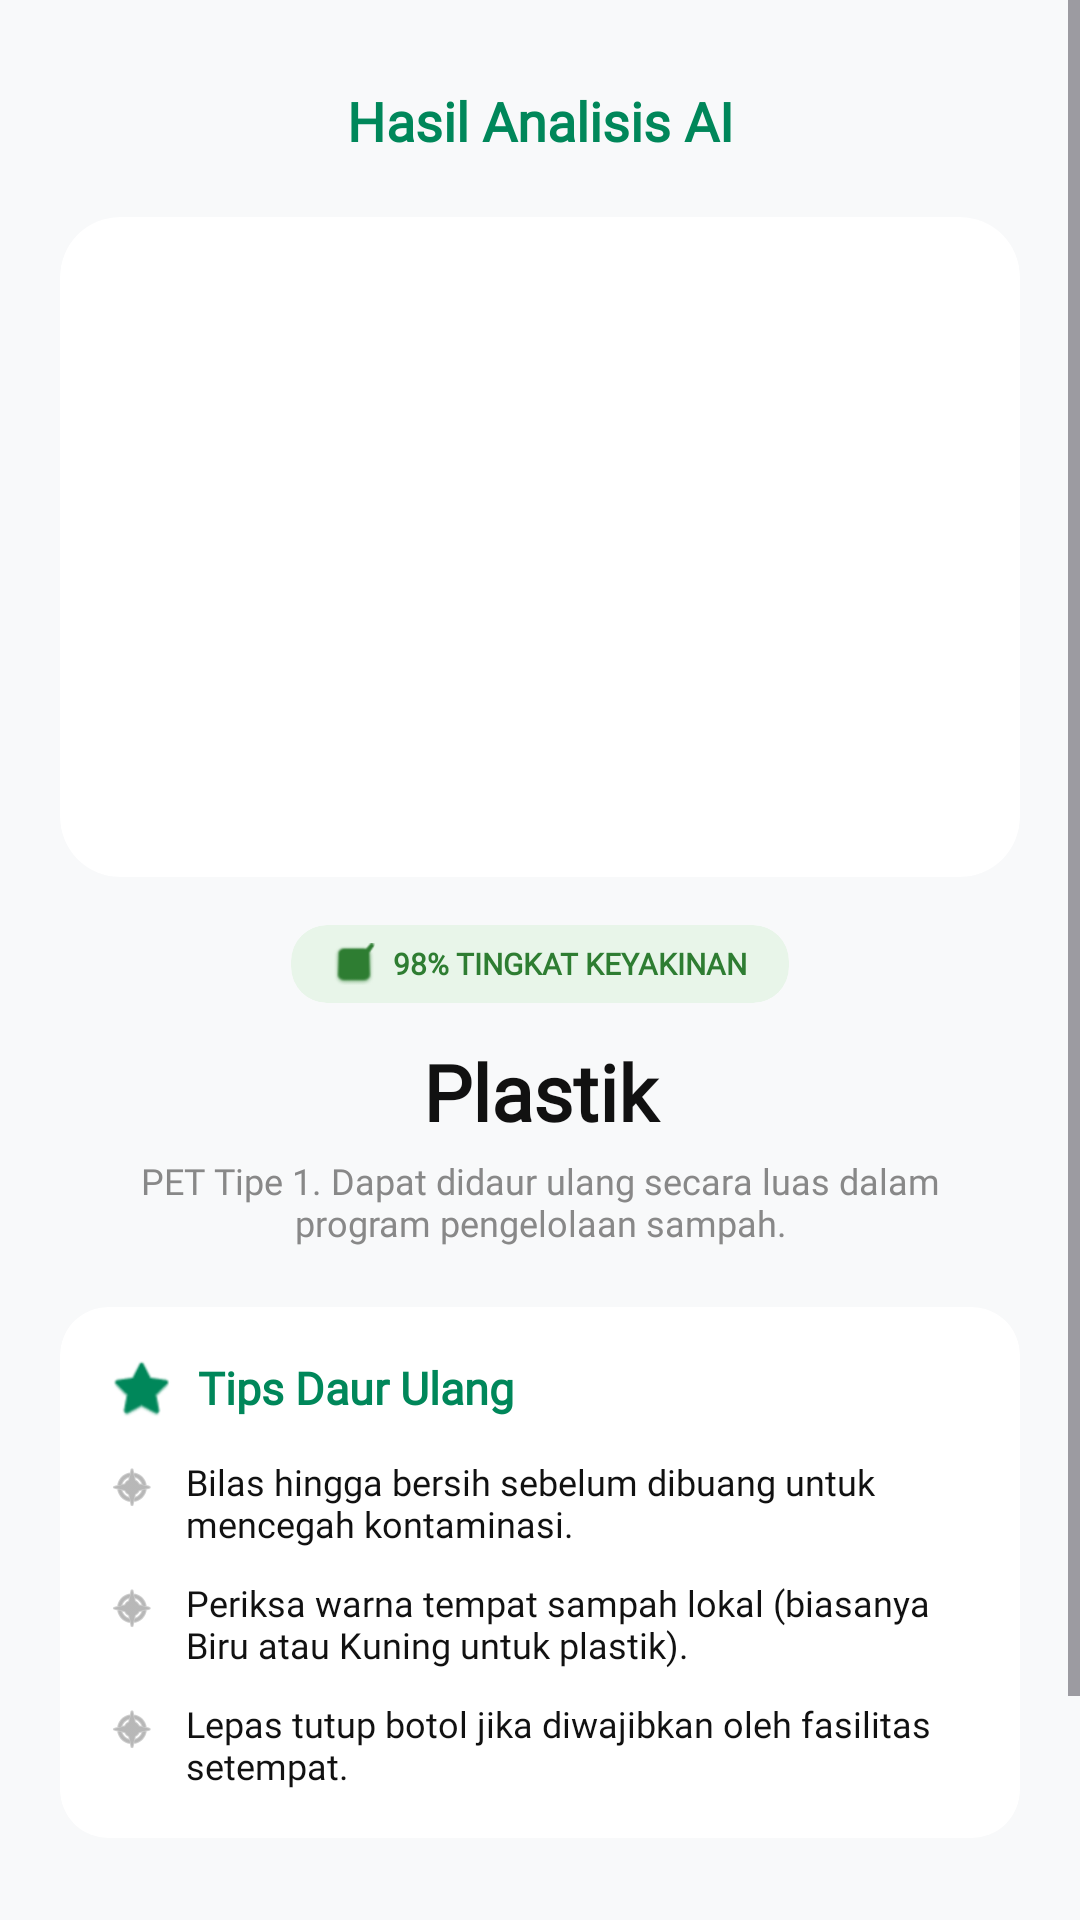

Named icons in this screenshot (1080×1920) and their bounding boxes, (x1, y1, x2, y2):
Ikon Tips: (114, 1362, 169, 1415)
Poin 1: (113, 1469, 151, 1506)
Poin 2: (113, 1590, 151, 1627)
Poin 3: (113, 1711, 151, 1748)
